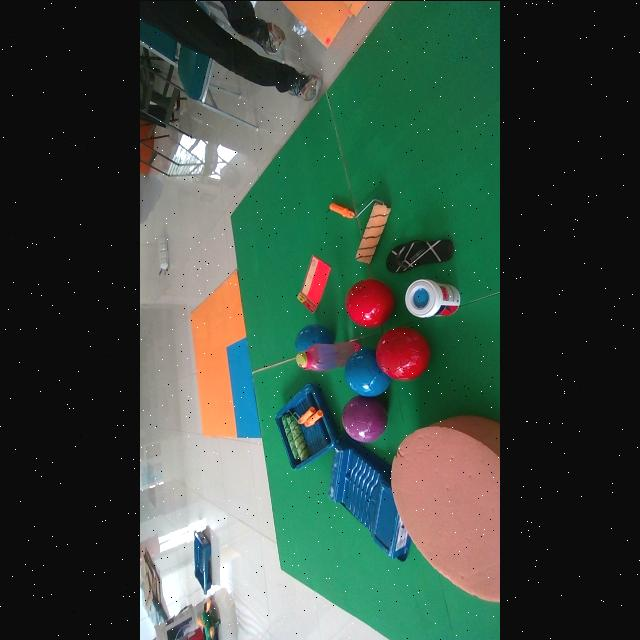B: (345, 347, 391, 395), (296, 324, 334, 351)
P: (342, 395, 388, 442)
R: (376, 326, 430, 380), (345, 278, 394, 326)
